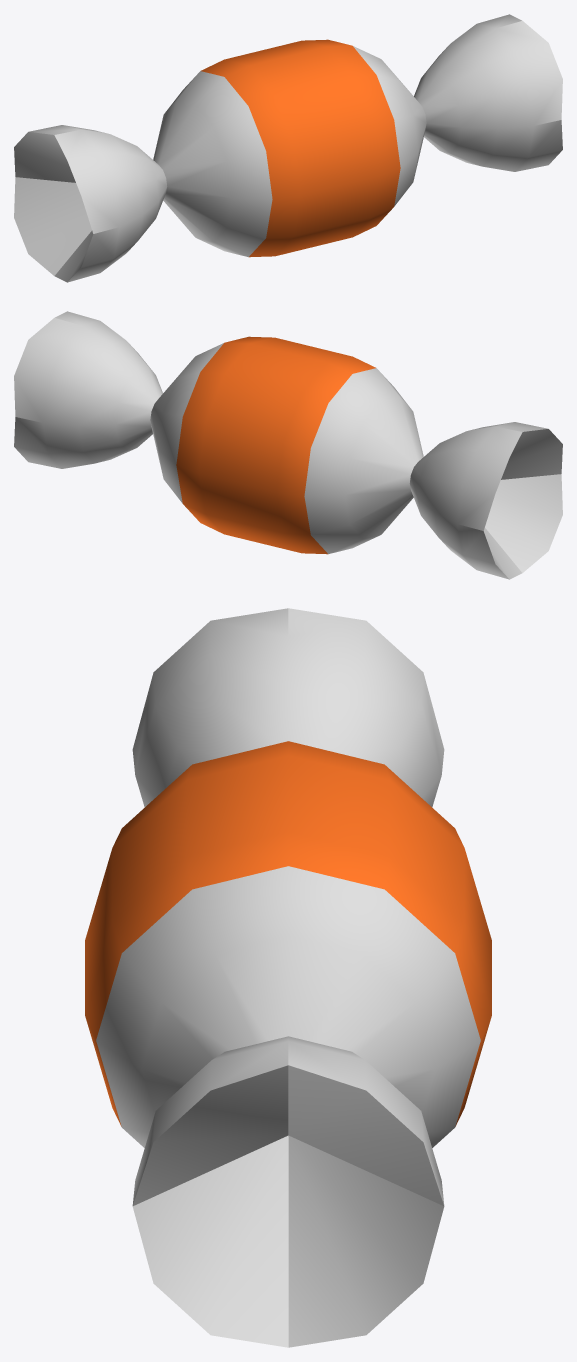
The model's file is candyA.glb.
3 views of the same model, one above another, from view 1: azimuth 30°, elevation 25°; view 2: azimuth 150°, elevation 25°; view 3: azimuth 270°, elevation 25° (orthographic). The views are drawn at different scales.
Visible parts, largest first — view 1: candyA; view 2: candyA; view 3: candyA.
Part boxes in pixels (x1=…): candyA: x1=14, y1=14, x2=562, y2=282; candyA: x1=14, y1=311, x2=562, y2=579; candyA: x1=85, y1=608, x2=491, y2=1347.
Bounding box in the file's own units: 0.9694 × 0.3546 × 0.3546.
